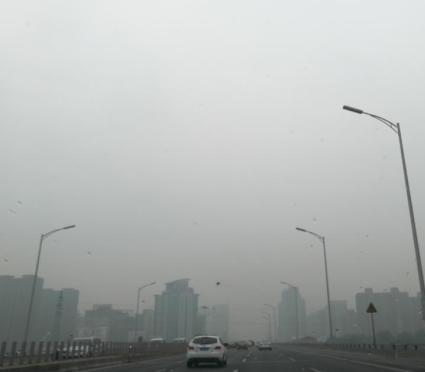car: (185, 335, 228, 369), (61, 336, 104, 361), (146, 338, 166, 358), (171, 337, 187, 356), (258, 339, 273, 352)
